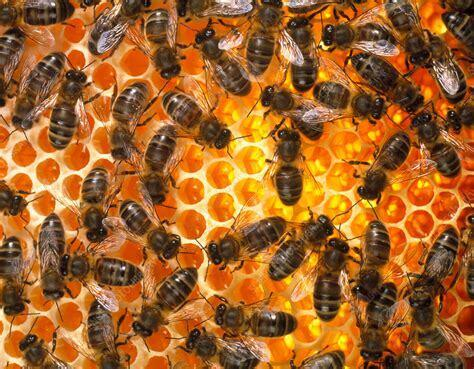worker-bee: (383, 0, 466, 101), (60, 245, 142, 310), (162, 77, 236, 148), (310, 58, 387, 124), (206, 209, 286, 269), (268, 207, 333, 280), (104, 199, 180, 260), (132, 267, 197, 337), (409, 285, 473, 356), (349, 52, 423, 112), (48, 62, 99, 149), (245, 0, 303, 76), (348, 131, 410, 201), (194, 19, 250, 95), (12, 52, 65, 130), (259, 82, 331, 139), (410, 110, 470, 177), (135, 120, 182, 204), (321, 7, 398, 55), (178, 327, 268, 368), (264, 128, 311, 205), (214, 295, 297, 337), (88, 0, 150, 55), (357, 282, 397, 367), (351, 220, 390, 301), (110, 82, 150, 159), (37, 212, 70, 304), (313, 238, 349, 321), (80, 166, 118, 242), (144, 8, 184, 79), (86, 299, 125, 368), (0, 236, 32, 318), (285, 12, 318, 91), (417, 226, 459, 283), (109, 274, 111, 275)
